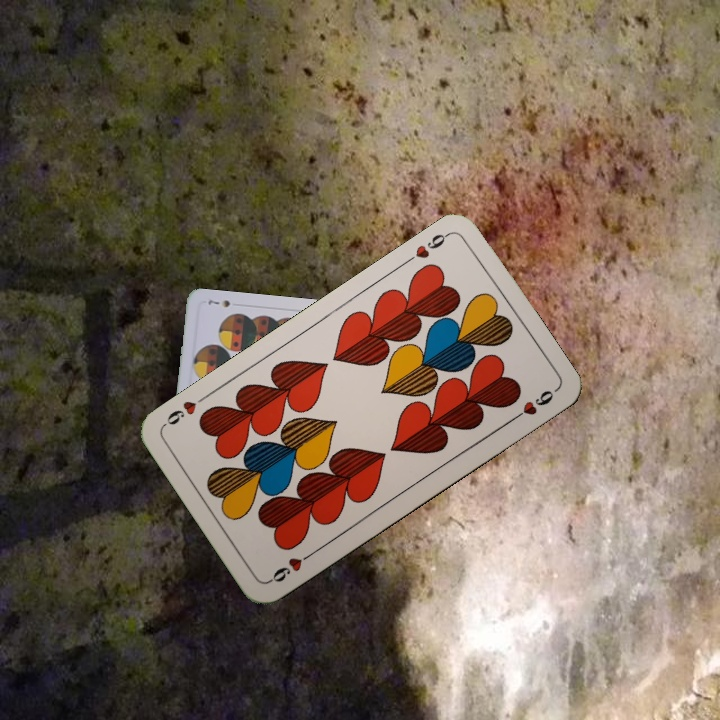H9: (401, 228, 453, 267), (265, 547, 317, 585)
